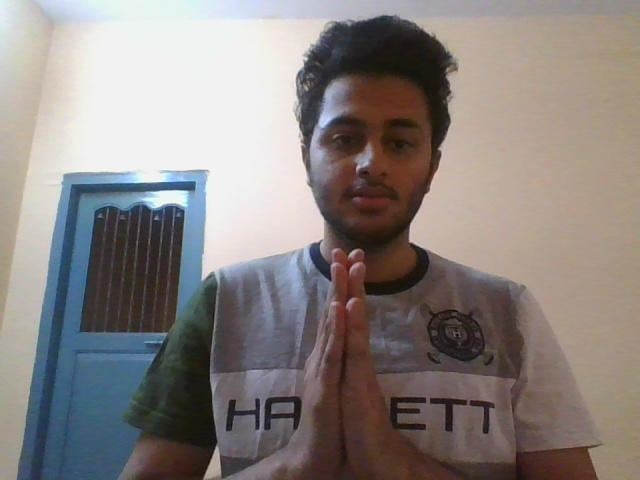Namaskara: (295, 244, 398, 480)
